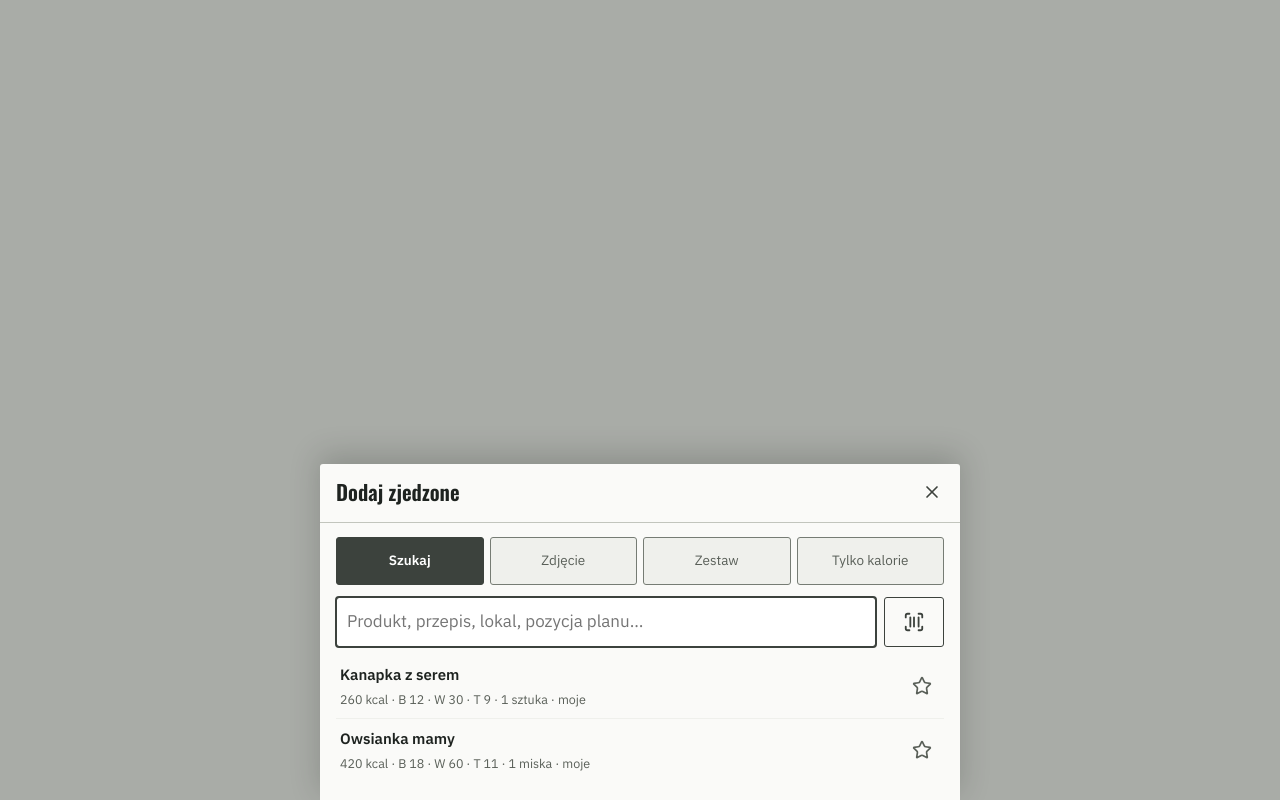
Test: „Dodaj zjedzone” wobec celu dnia › pod wybraną pozycją: ile zostanie z dnia po niej (★)
The width and height of the screenshot is (1280, 800).
Step 1. Type "kanapka" into the search field named "Szukaj jedzenia" → (606, 622), box x1=336 y1=596 x2=876 y2=646
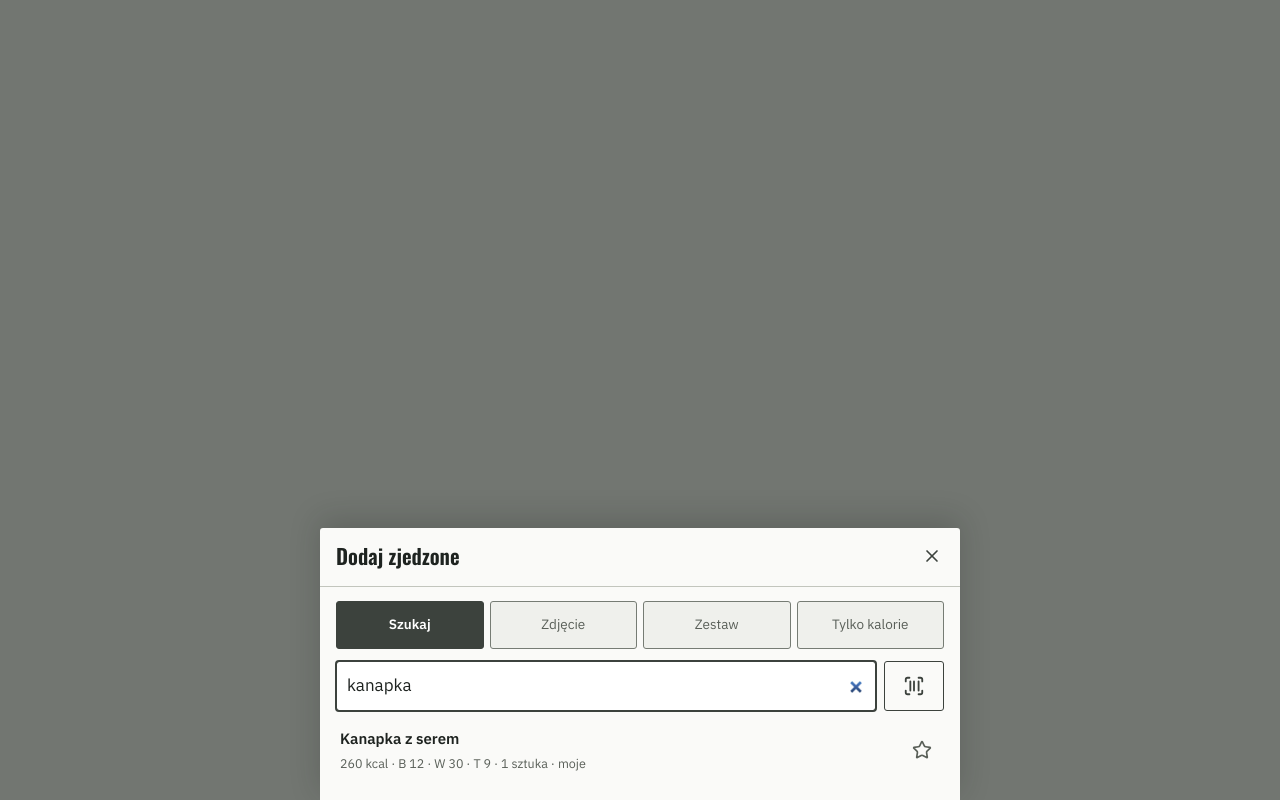
Step 2. Click the button "Kanapka z serem" → (400, 738), box x1=336 y1=719 x2=898 y2=782
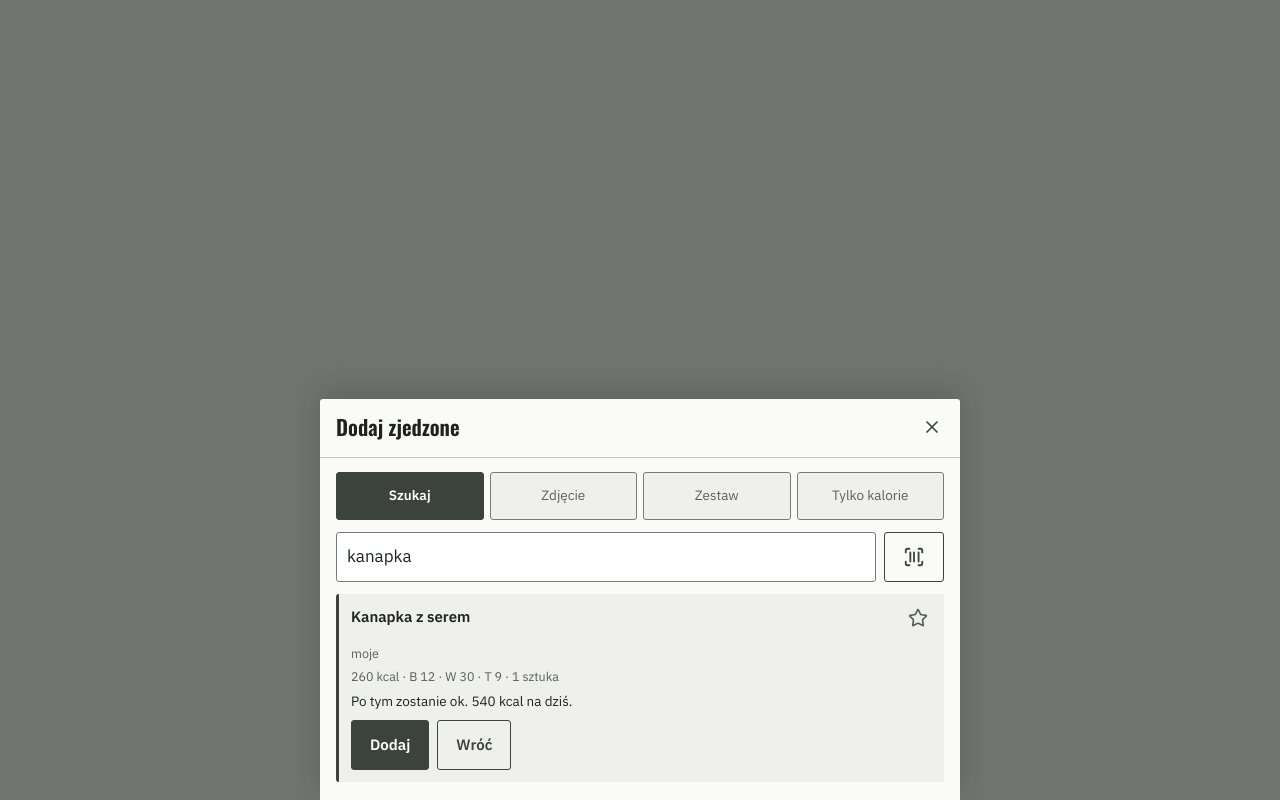
Now the text "Po tym zostanie ok. 540 kcal na dziś." is shown, box x1=351 y1=692 x2=572 y2=710
